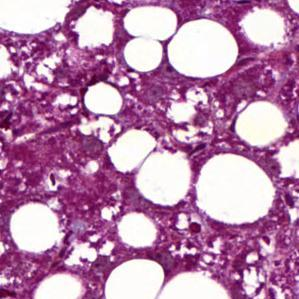steatosis: (194, 153, 275, 223), (169, 18, 240, 78), (82, 82, 124, 117)
